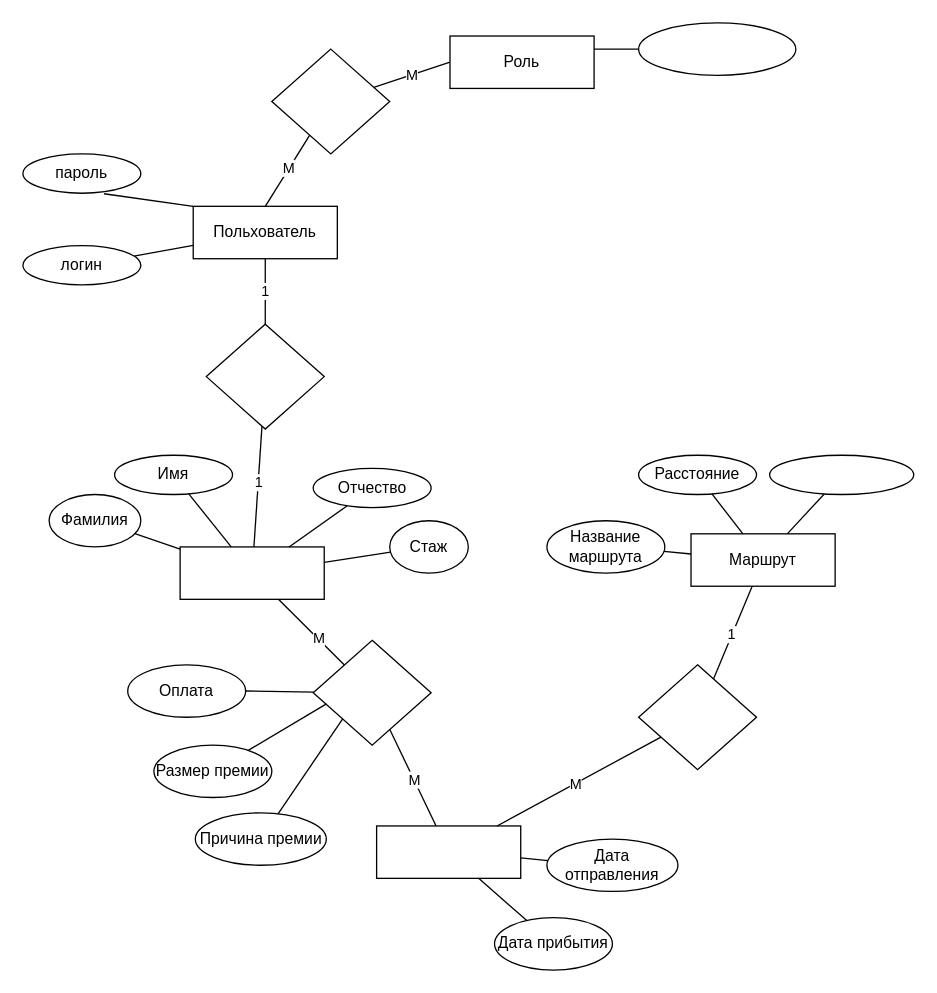
This 937x993 diagram has some shape labels left out. Each missing label, with the box of its shape:
Базовая оплата: (768, 454, 914, 495)
Водитель: (179, 546, 324, 599)
имеет: (271, 48, 390, 154)
использует: (637, 664, 757, 770)
наименование роли: (637, 22, 796, 75)
Перевозка: (375, 825, 521, 878)
участвует: (312, 639, 431, 745)
является: (205, 323, 324, 429)
